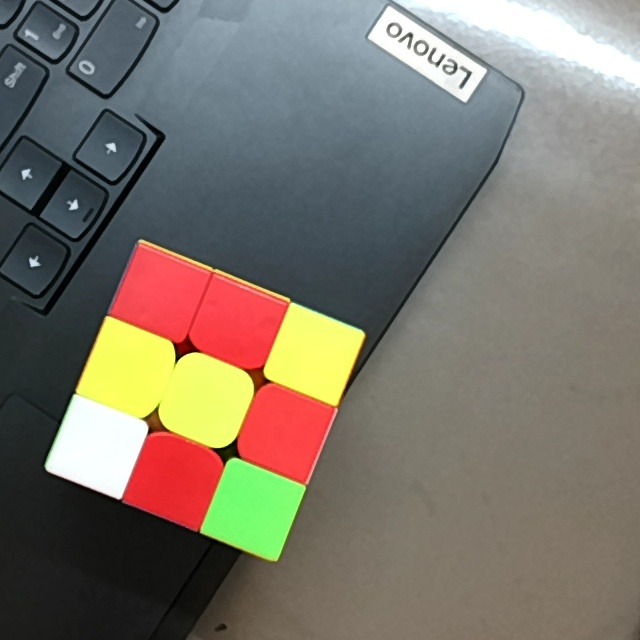tile: (222, 481, 283, 541), (145, 451, 206, 509), (176, 371, 235, 430), (67, 420, 126, 479), (101, 341, 159, 399), (208, 295, 267, 351), (254, 404, 314, 459), (132, 268, 187, 324), (286, 327, 341, 382)
